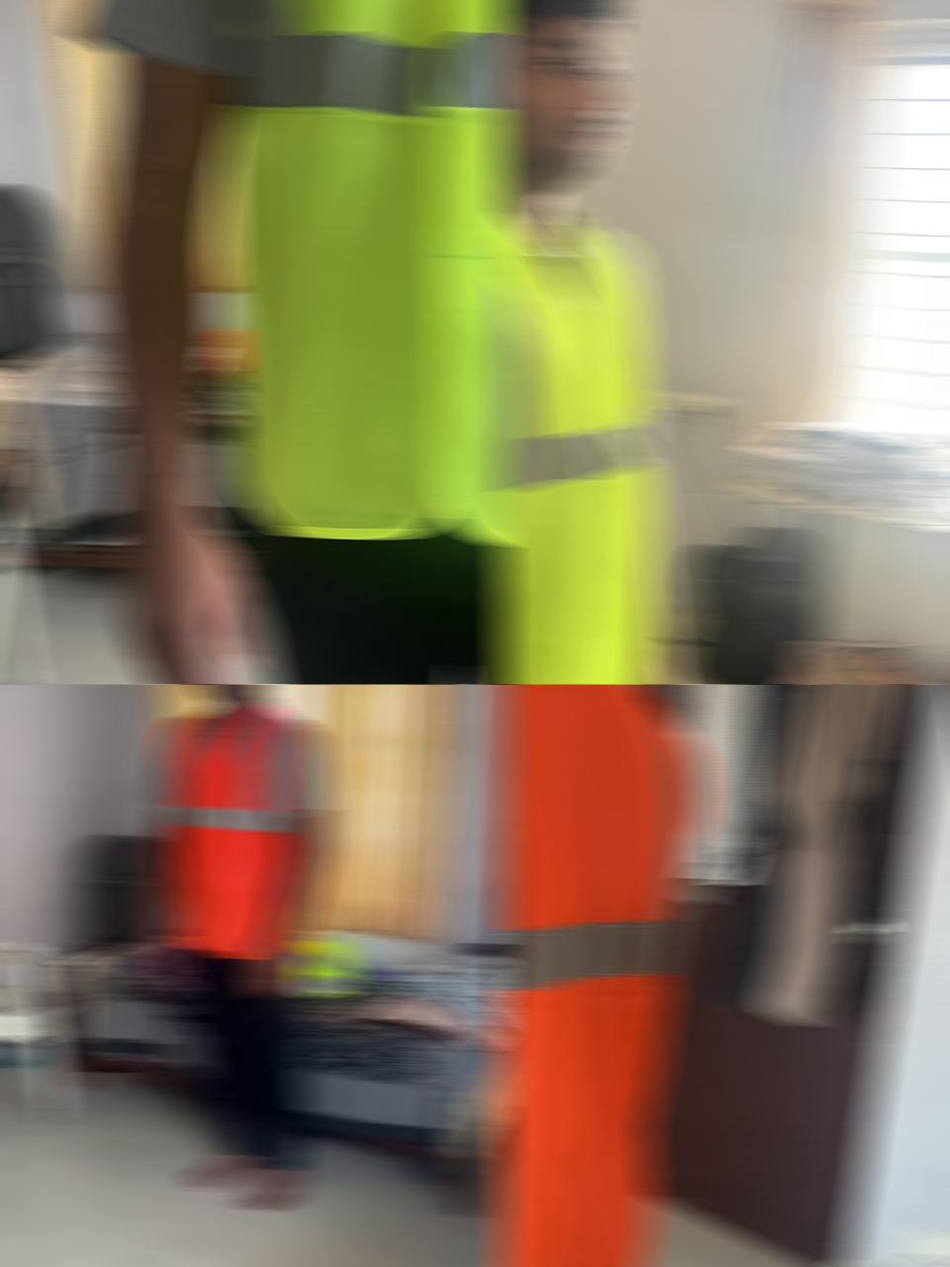No_Helmet: (496, 0, 628, 135)
Person: (72, 0, 510, 684), (496, 0, 694, 684), (496, 684, 712, 1267), (143, 684, 333, 1211)
Vest: (173, 0, 510, 551), (496, 684, 712, 1267), (496, 161, 659, 684), (158, 698, 327, 959)
